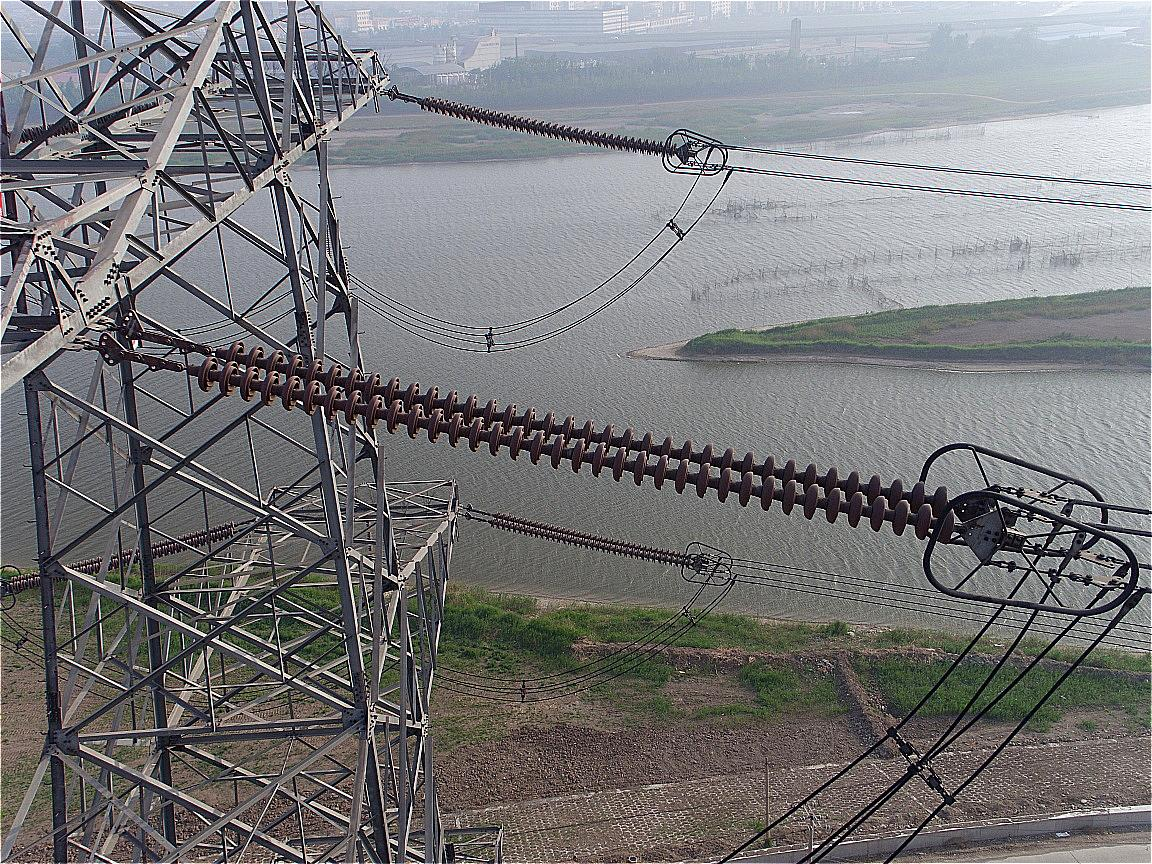insultor1: (199, 340, 956, 544)
insultor2: (10, 521, 234, 594), (423, 96, 676, 157), (490, 507, 691, 569)
